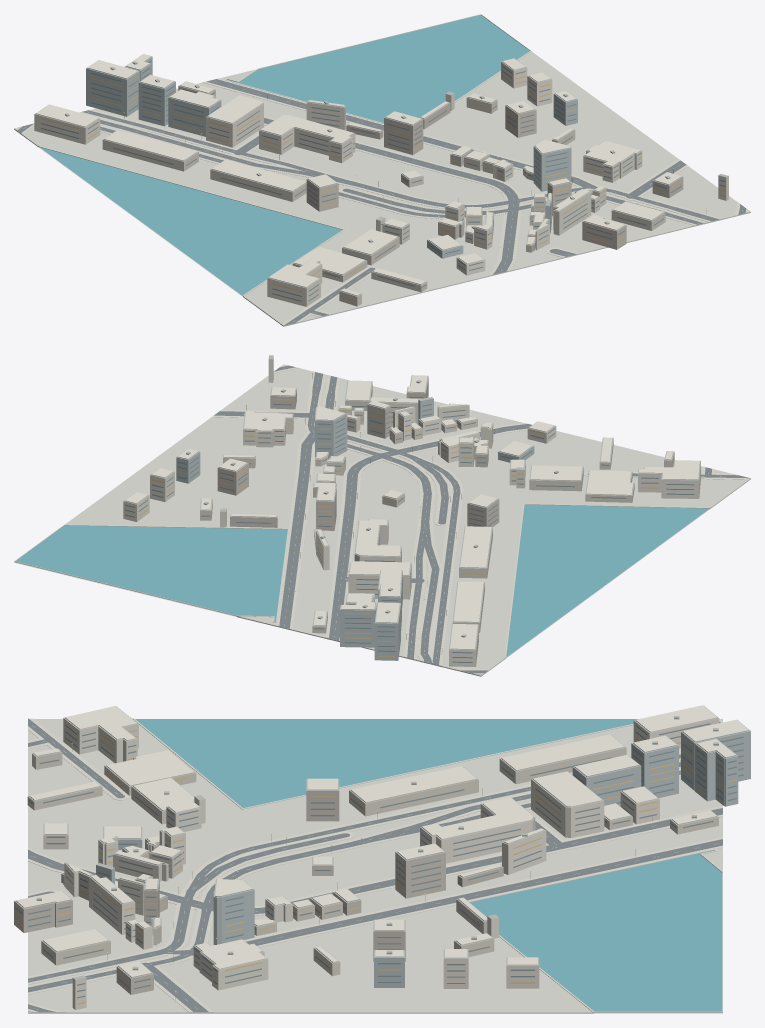
3 renders of one model, top to bottom at view 1: azimuth 30°, elevation 25°; view 2: azimuth 150°, elevation 25°; view 3: azimuth 270°, elevation 25°, orthographic. The views are drawn at different scales.
Visible parts, largest first — view 1: city; view 2: city; view 3: city.
Part boxes in pixels (<box>): city: <box>14,14,750,326</box>; city: <box>14,355,750,676</box>; city: <box>14,705,750,1013</box>.
Bounding box in the file's own units: 500 × 40.95 × 530.
